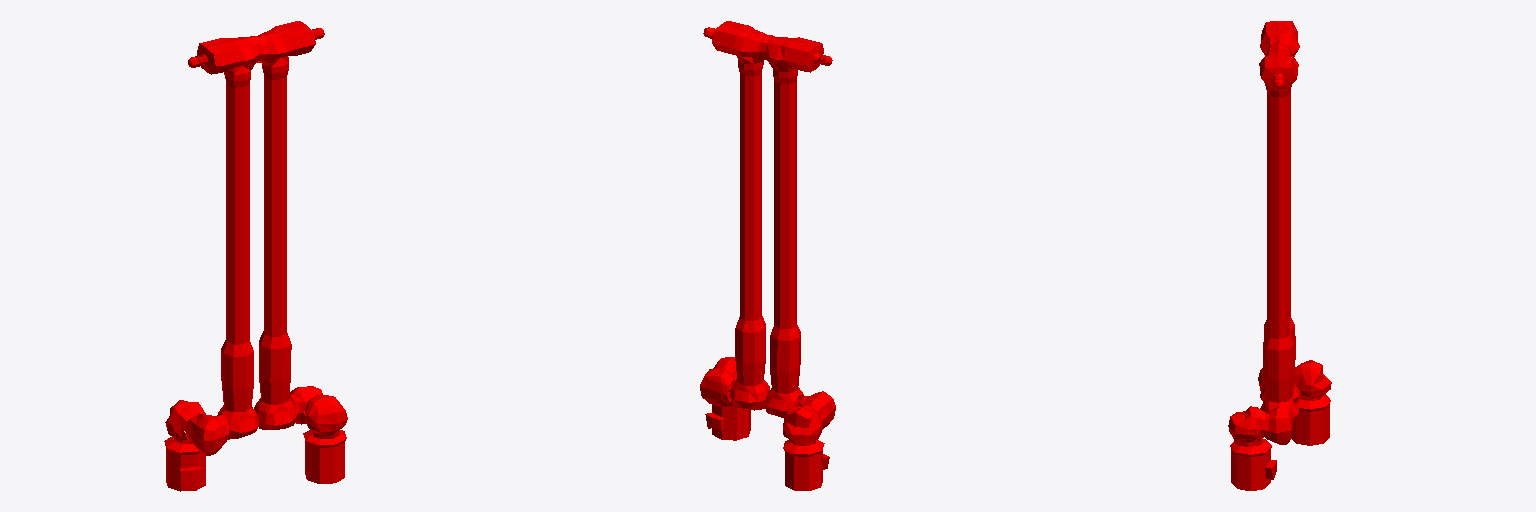
The robot description file, URDF, robot "canadarm3_large":
<?xml version="1.0" ?>
<robot name="canadarm3_large">
	<material name="canadarm_white"><color rgba=".85 0.84 0.86 1"/></material>
	<material name="test"><color rgba="1 0 0 1"/></material>
	<material name="fixed"><color rgba="1 0 1 0"/></material>
	<link name="base_link">
		<visual>
			<origin xyz="0 0 0" rpy="0 0 0"/>
			<geometry><mesh filename="test/canadarm3_large/canadarm3_0 - Surface 1.stl"/></geometry>
			<material name="canadarm_white"/>
		</visual>
		<collision>
			<origin xyz="0 0 0" rpy="0 0 0"/>
			<geometry><mesh filename="test/canadarm3_large/canadarm3_0 - Surface 1.stl"/></geometry>
		</collision>
		<inertial><mass value="1.0"/><inertia ixx="0.05" ixy="0" ixz="0" iyy="0.05" iyz="0" izz="0.05"/></inertial>
	</link>

	<link name="link_1"><visual><geometry><mesh filename="test/canadarm3_large/canadarm3_1 - Surface 1.stl"/></geometry><material name="test"/></visual><collision><geometry><mesh filename="test/canadarm3_large/canadarm3_1 - Surface 1.stl"/></geometry></collision><inertial><mass value="0.7"/><inertia ixx="0.015" ixy="0" ixz="0" iyy="0.015" iyz="0" izz="0.015"/></inertial></link>
	<link name="link_2"><visual><geometry><mesh filename="test/canadarm3_large/canadarm3_2 - Surface 1.stl"/></geometry><material name="test"/></visual><collision><geometry><mesh filename="test/canadarm3_large/canadarm3_2 - Surface 1.stl"/></geometry></collision><inertial><mass value="0.4"/><inertia ixx="0.006" ixy="0" ixz="0" iyy="0.006" iyz="0" izz="0.006"/></inertial></link>
	<link name="link_3"><visual><geometry><mesh filename="test/canadarm3_large/canadarm3_3 - Surface 1.stl"/></geometry><material name="test"/></visual><collision><geometry><mesh filename="test/canadarm3_large/canadarm3_3 - Surface 1.stl"/></geometry></collision><inertial><mass value="0.35"/><inertia ixx="0.005" ixy="0" ixz="0" iyy="0.005" iyz="0" izz="0.005"/></inertial></link>
	<link name="link_4"><visual><geometry><mesh filename="test/canadarm3_large/canadarm3_4 - Surface 1.stl"/></geometry><material name="test"/></visual><collision><geometry><mesh filename="test/canadarm3_large/canadarm3_4 - Surface 1.stl"/></geometry></collision><inertial><mass value="0.5"/><inertia ixx="0.01" ixy="0" ixz="0" iyy="0.01" iyz="0" izz="0.01"/></inertial></link>
	<link name="link_5"><visual><geometry><mesh filename="test/canadarm3_large/canadarm3_5 - Surface 1.stl"/></geometry><material name="test"/></visual><collision><geometry><mesh filename="test/canadarm3_large/canadarm3_5 - Surface 1.stl"/></geometry></collision><inertial><mass value="0.35"/><inertia ixx="0.005" ixy="0" ixz="0" iyy="0.005" iyz="0" izz="0.005"/></inertial></link>
	<link name="link_6"><visual><geometry><mesh filename="test/canadarm3_large/canadarm3_6 - Surface 1.stl"/></geometry><material name="test"/></visual><collision><geometry><mesh filename="test/canadarm3_large/canadarm3_6 - Surface 1.stl"/></geometry></collision><inertial><mass value="0.35"/><inertia ixx="0.005" ixy="0" ixz="0" iyy="0.005" iyz="0" izz="0.005"/></inertial></link>
	<link name="link_7"><visual><geometry><mesh filename="test/canadarm3_large/canadarm3_7 - Surface 1.stl"/></geometry><material name="test"/></visual><collision><geometry><mesh filename="test/canadarm3_large/canadarm3_7 - Surface 1.stl"/></geometry></collision><inertial><mass value="0.35"/><inertia ixx="0.005" ixy="0" ixz="0" iyy="0.005" iyz="0" izz="0.005"/></inertial></link>
	<link name="link_8"><visual><geometry><mesh filename="test/canadarm3_large/canadarm3_8 - Surface 1.stl"/></geometry><material name="test"/></visual><collision><geometry><mesh filename="test/canadarm3_large/canadarm3_8 - Surface 1.stl"/></geometry></collision><inertial><mass value="0.3"/><inertia ixx="0.004" ixy="0" ixz="0" iyy="0.004" iyz="0" izz="0.004"/></inertial></link>

	<joint name="joint_1" type="revolute"><parent link="base_link"/><child link="link_1"/><origin xyz="0.01 0.01 0.01" rpy="0 0 0"/><axis xyz="0 1 0"/><limit lower="-3.124" upper="3.124" effort="100" velocity="1"/></joint>
	<joint name="joint_2" type="revolute"><parent link="link_1"/><child link="link_2"/><origin xyz="0.01 0.01 0.01" rpy="0 0 0"/><axis xyz="0 1 0"/><limit lower="-3.124" upper="3.124" effort="100" velocity="1"/></joint>
	<joint name="joint_3" type="revolute"><parent link="link_2"/><child link="link_3"/><origin xyz="0.01 0.01 0.01" rpy="0 0 0"/><axis xyz="0 0 1"/><limit lower="-3.124" upper="3.124" effort="100" velocity="1"/></joint>
	<joint name="joint_4" type="revolute"><parent link="link_3"/><child link="link_4"/><origin xyz="0.01 0.01 0.01" rpy="0 0 0"/><axis xyz="1 0 0"/><limit lower="-3.124" upper="3.124" effort="100" velocity="1"/></joint>
	<joint name="joint_5" type="revolute"><parent link="link_4"/><child link="link_5"/><origin xyz="0.01 0.01 0.01" rpy="0 0 0"/><axis xyz="0 1 0"/><limit lower="-3.124" upper="3.124" effort="100" velocity="1"/></joint>
	<joint name="joint_6" type="revolute"><parent link="link_5"/><child link="link_6"/><origin xyz="0.01 0.01 0.01" rpy="0 0 0"/><axis xyz="1 0 0"/><limit lower="-3.124" upper="3.124" effort="100" velocity="1"/></joint>
	<joint name="joint_7" type="revolute"><parent link="link_6"/><child link="link_7"/><origin xyz="0.01 0.01 0.01" rpy="0 0 0"/><axis xyz="0 1 0"/><limit lower="-3.124" upper="3.124" effort="100" velocity="1"/></joint>
	<joint name="joint_8" type="revolute"><parent link="link_7"/><child link="link_8"/><origin xyz="0.01 0.01 0.01" rpy="0 0 0"/><axis xyz="0 0 1"/><limit lower="-3.124" upper="3.124" effort="100" velocity="1"/></joint>
</robot>

--- What the picture shows (computed from the rendered views, not written in the file) ---
Views: 3 orthographic renders of the robot side by side, from view 1: azimuth 30°, elevation 25°; view 2: azimuth 150°, elevation 25°; view 3: azimuth 270°, elevation 25°.
Model canadarm3_large with 9 links and 8 joints (8 revolute), rooted at base_link, posed all joints at 0.
Links seen in each view (by area): view 1: link_5, link_4, link_8, link_1, link_7, link_3, link_2, link_6; view 2: link_5, link_4, link_1, link_8, link_2, link_6, link_3; view 3: link_4, link_8, link_1, link_5, link_7, link_2, link_6.
Boxes of the visible links, <box> form: link_5: <box>188,36,262,439</box>; link_4: <box>254,21,324,429</box>; link_8: <box>303,430,346,483</box>; link_1: <box>164,433,205,491</box>; link_7: <box>305,395,347,438</box>; link_3: <box>185,413,228,455</box>; link_2: <box>165,400,205,441</box>; link_6: <box>289,386,322,424</box>; link_5: <box>761,35,832,417</box>; link_4: <box>703,21,769,410</box>; link_1: <box>783,439,829,490</box>; link_8: <box>705,385,750,440</box>; link_2: <box>783,405,822,445</box>; link_6: <box>700,368,736,406</box>; link_3: <box>797,391,835,428</box>; link_4: <box>1259,44,1298,422</box>; link_8: <box>1230,438,1276,490</box>; link_1: <box>1291,394,1330,445</box>; link_5: <box>1260,21,1299,402</box>; link_7: <box>1228,406,1265,446</box>; link_2: <box>1294,360,1331,400</box>; link_6: <box>1265,405,1293,444</box>.
Size in the robot's own frame: 1.52 by 0.9893 by 4.43 metres.
Meshes: 9 distinct files referenced, 9 mesh visuals loaded (9 binary STL).
